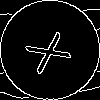X: (25, 25, 81, 76)
